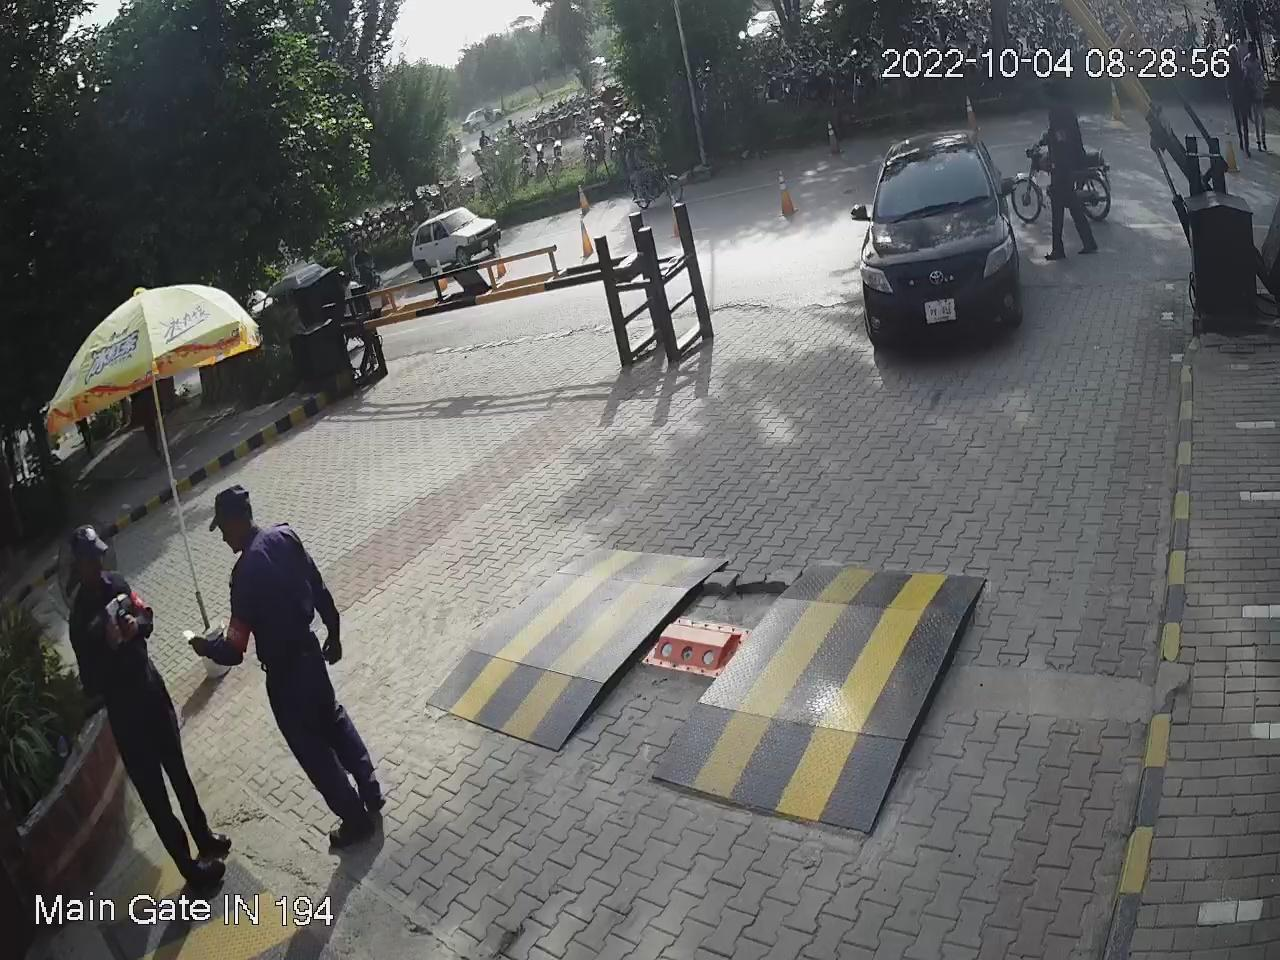windshield: (868, 132, 996, 233)
